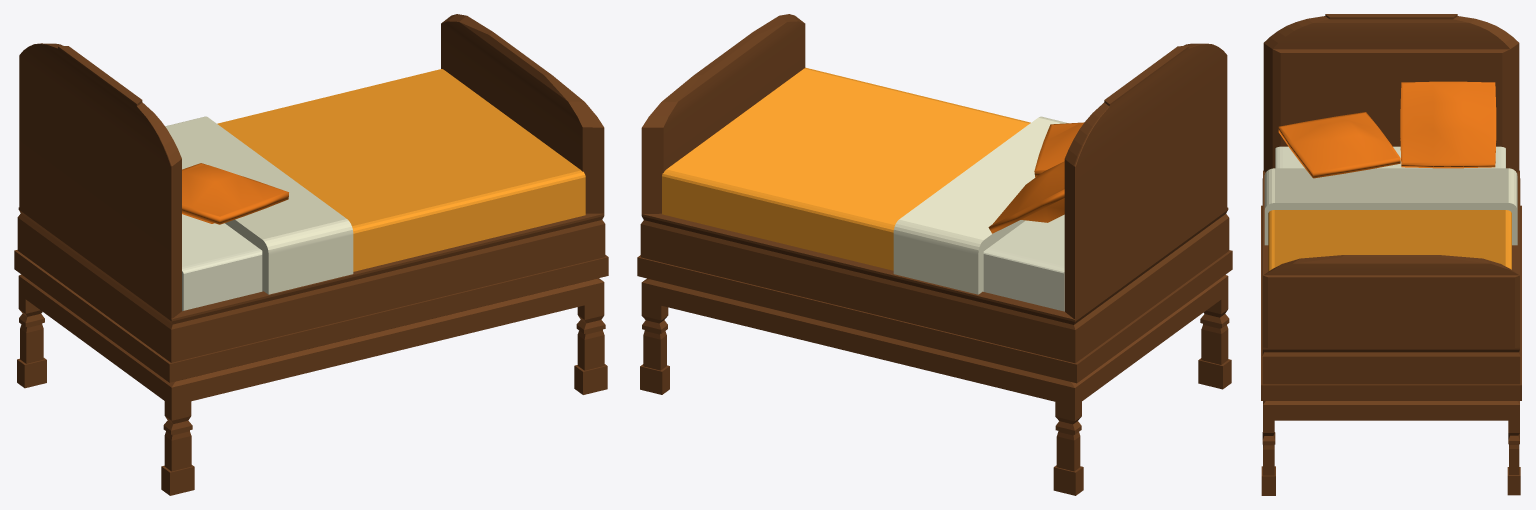
Rendered from M_LitEnfantJaune.fbx.
The picture shows the model from 3 angles, left to right: view 1: azimuth 30°, elevation 25°; view 2: azimuth 150°, elevation 25°; view 3: azimuth 270°, elevation 25°; orthographic projection. The views are drawn at different scales.
Parts seen in each view (by area): view 1: Cube.005; view 2: Cube.005; view 3: Cube.005.
Boxes of the visible parts, <box> form: Cube.005: <box>14,14,608,495</box>; Cube.005: <box>637,14,1232,495</box>; Cube.005: <box>1261,14,1521,495</box>.
Bounding box in the file's own units: 664 × 524 × 407.
